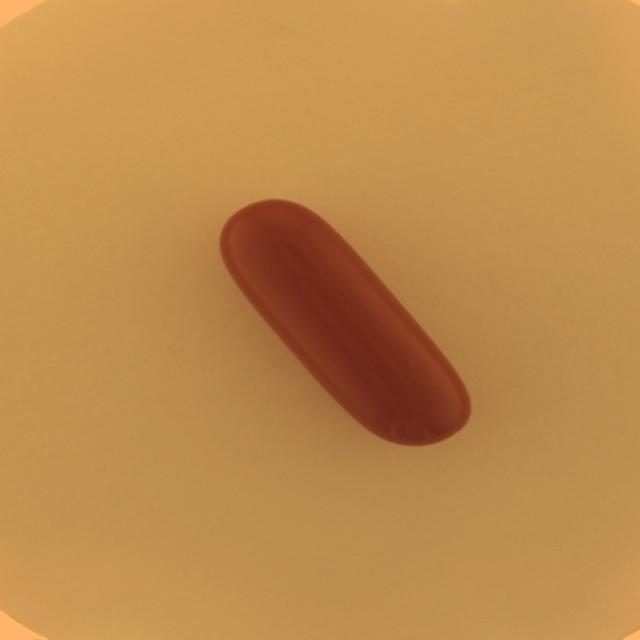Oval: (217, 195, 471, 449)
